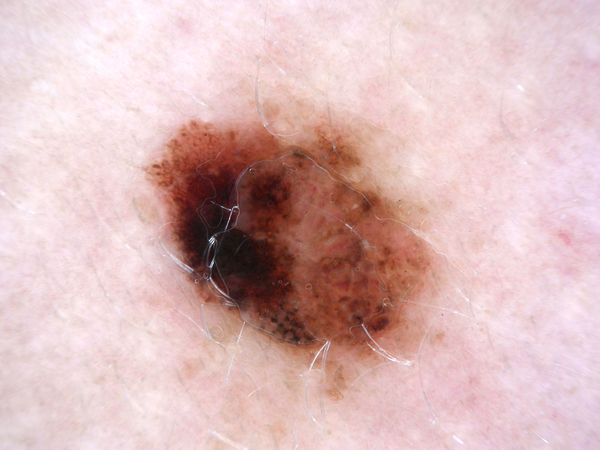Detected Lesion: (134, 109, 438, 379)
